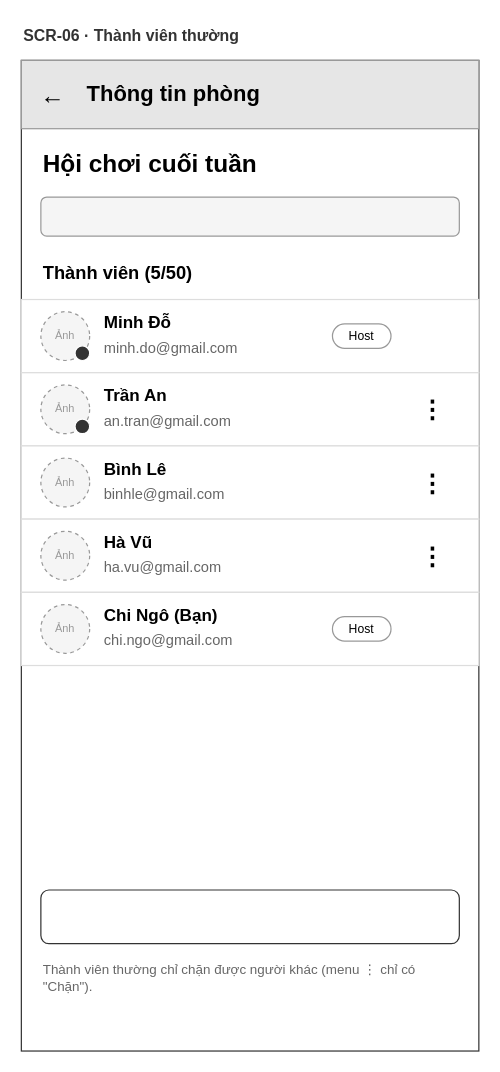
This 500x1072 diagram has some shape labels left out. Each missing label, with the box of its shape:
Ngắn hạn · tin tự xóa sau 1 tuần (không đổi được): (40, 196, 459, 236)
Rời phòng: (40, 889, 459, 944)
